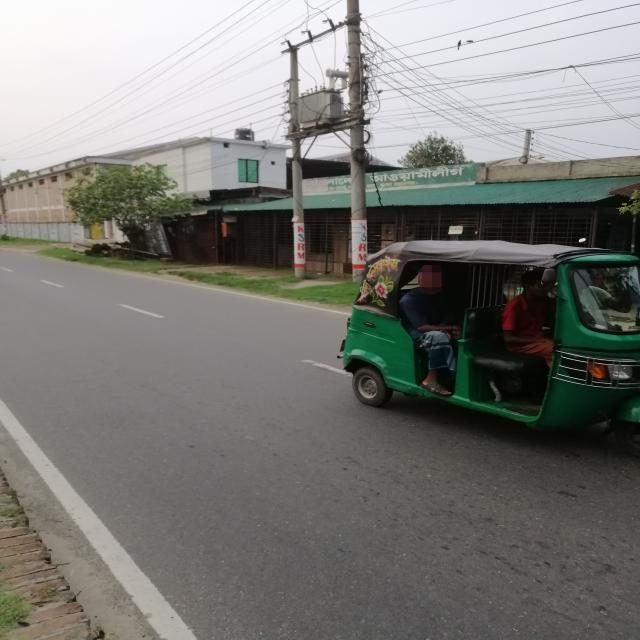CNG: (314, 217, 640, 487)
